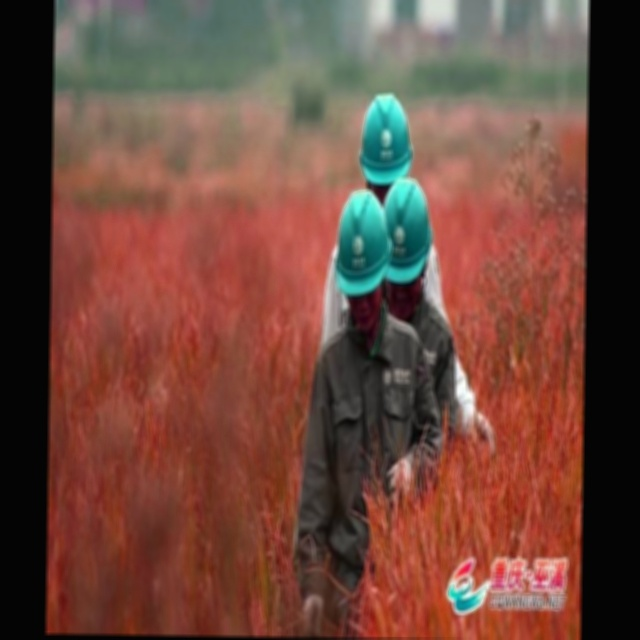Con_Casco: (334, 192, 392, 318), (360, 92, 414, 186)
